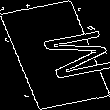M_W: (11, 26, 99, 84)
